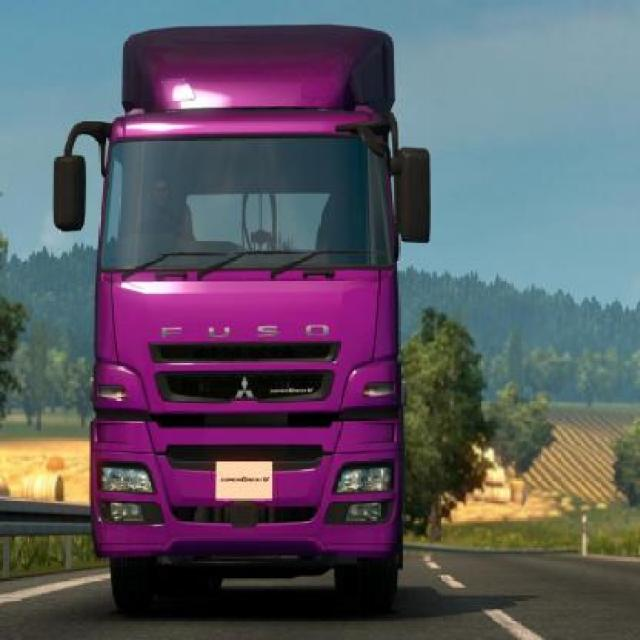truck: (53, 20, 431, 600)
